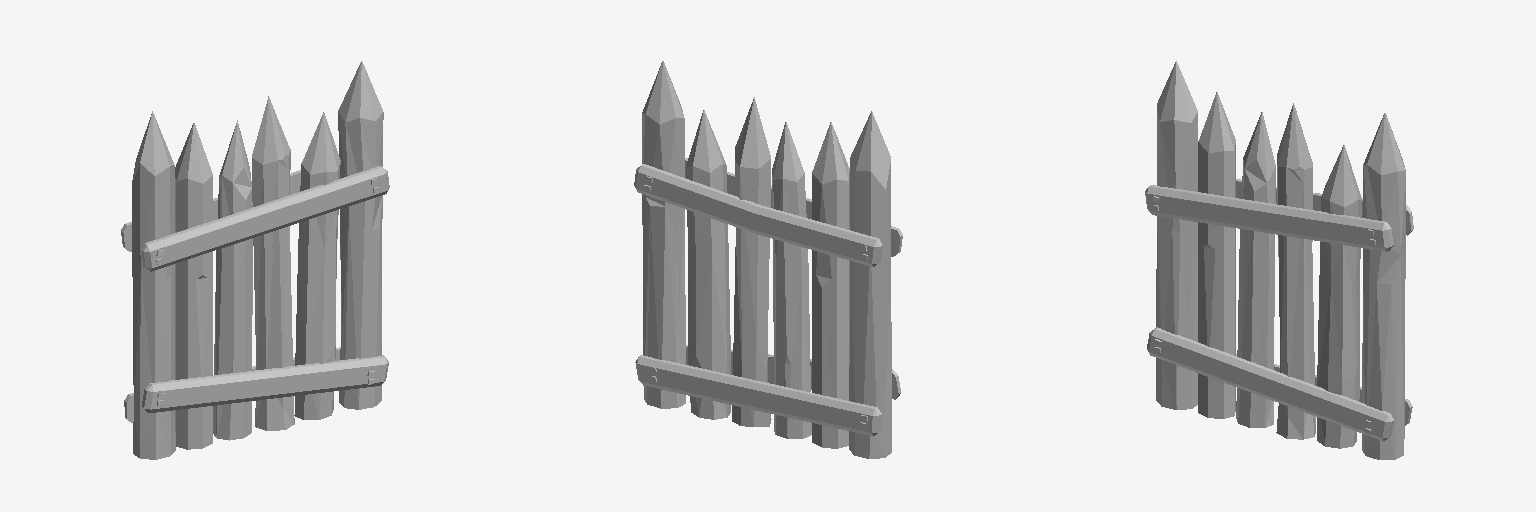
The model's file is Fence_1_3.obj.
3 renders of one model, left to right at view 1: azimuth 30°, elevation 25°; view 2: azimuth 150°, elevation 25°; view 3: azimuth 330°, elevation 25°, orthographic.
Parts seen in each view (by area): view 1: Fence_1_3; view 2: Fence_1_3; view 3: Fence_1_3.
Part boxes in pixels (x1,y1,x2,y2): Fence_1_3: (121, 61, 389, 459); Fence_1_3: (634, 61, 902, 458); Fence_1_3: (1145, 61, 1413, 459).
Bounding box in the file's own units: 1.78 × 2.35 × 0.3682.